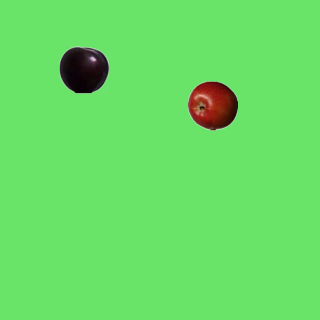Apple Braeburn: (187, 80, 237, 130)
Cherry Wax Black: (58, 44, 108, 94)
